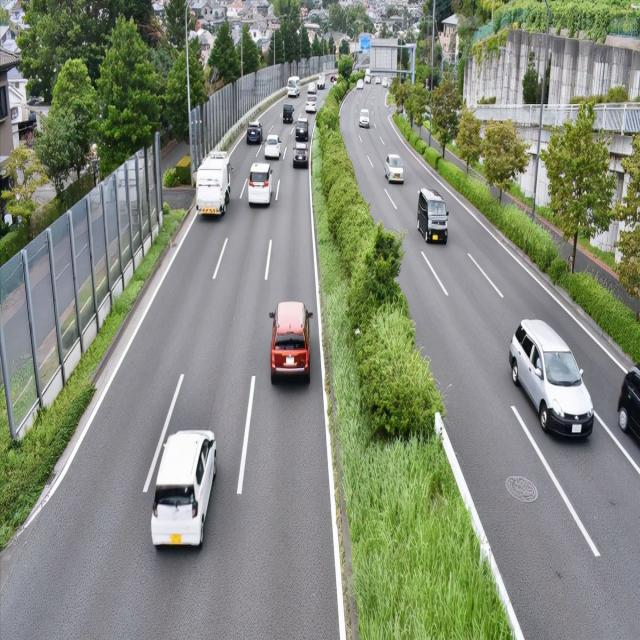point: (296, 10, 406, 147)
